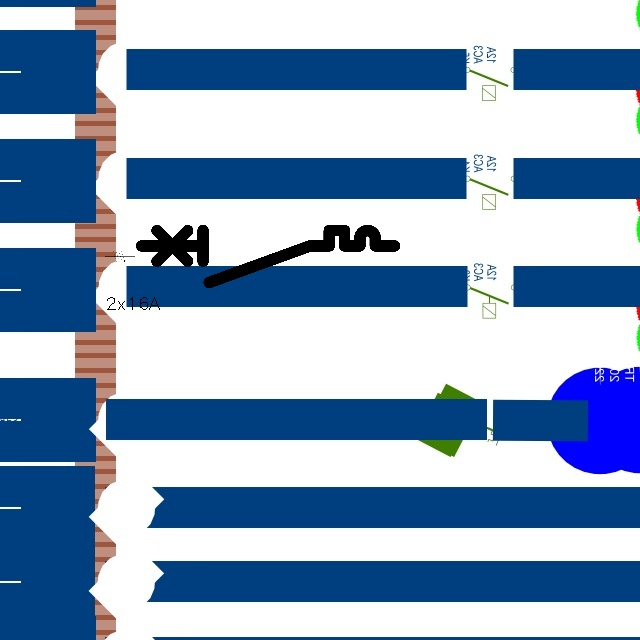interruptor_termomagnetico: (135, 224, 401, 289)
